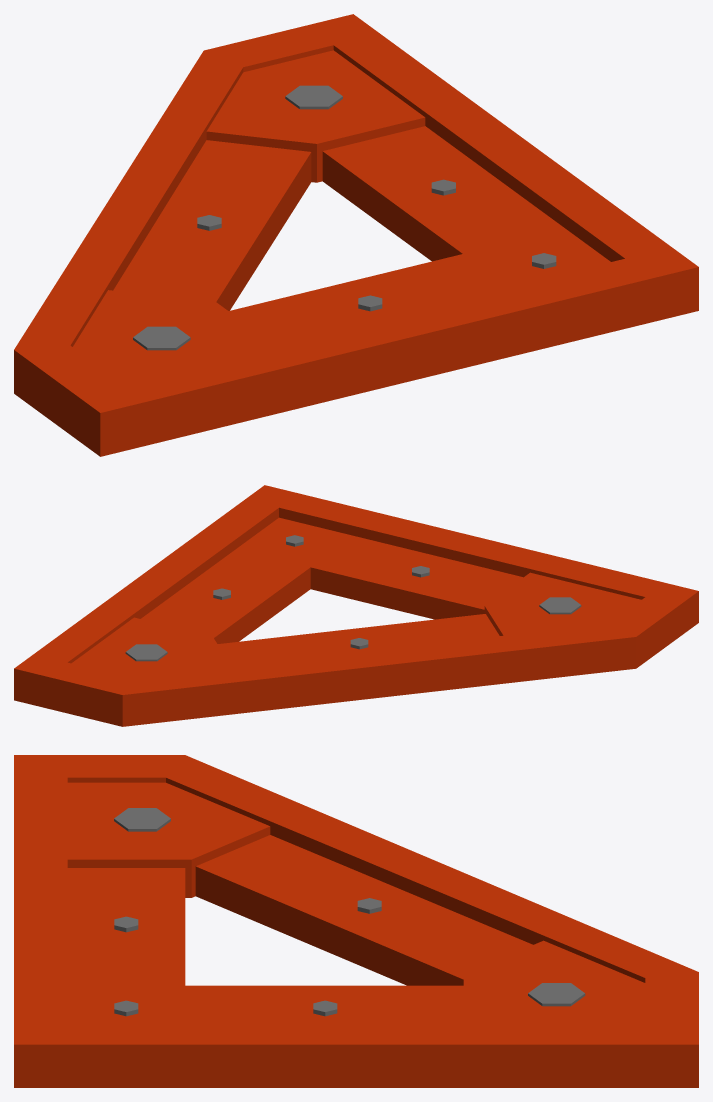
Rendered from Prop_Industrial_Beams_Brace_Half_03.FBX.
The picture shows the model from 3 angles, top to bottom: view 1: azimuth 30°, elevation 25°; view 2: azimuth 150°, elevation 25°; view 3: azimuth 270°, elevation 25°; orthographic projection. The views are drawn at different scales.
Visible parts, largest first — view 1: Prop_Industrial_Beams_Brace_Half_03; view 2: Prop_Industrial_Beams_Brace_Half_03; view 3: Prop_Industrial_Beams_Brace_Half_03.
Part boxes in pixels (x1,y1,x2,y2): Prop_Industrial_Beams_Brace_Half_03: (14, 14, 698, 456); Prop_Industrial_Beams_Brace_Half_03: (14, 485, 698, 726); Prop_Industrial_Beams_Brace_Half_03: (14, 755, 698, 1087).
Size of the model in its own units: 2000 by 140 by 2000.
